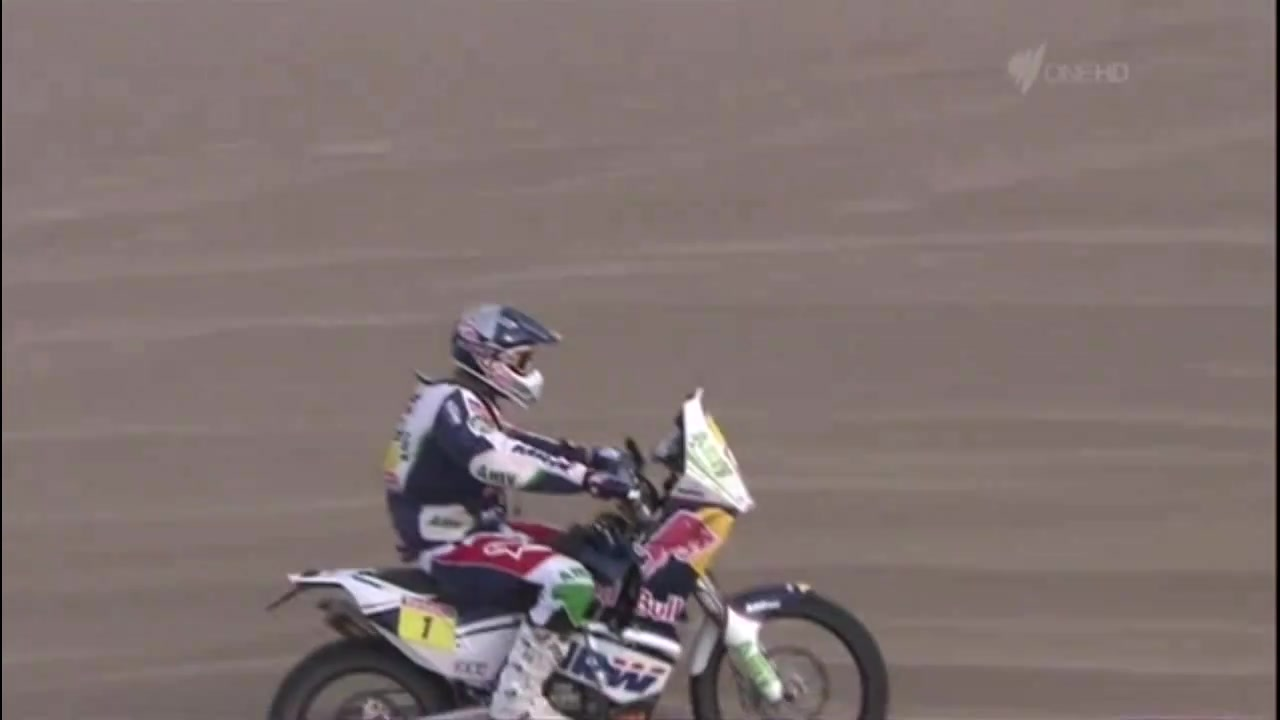motorbike: (255, 390, 890, 720)
